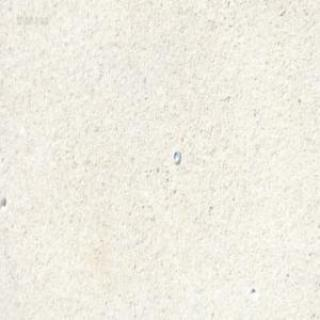Washertrack_idkeyframe: (172, 150, 180, 166)
